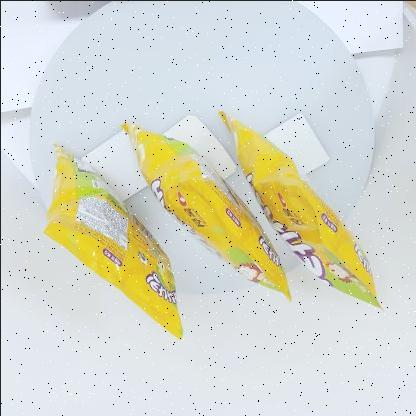Others: (34, 104, 386, 344)
